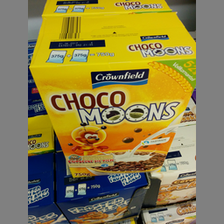cereal: (29, 16, 196, 179)
